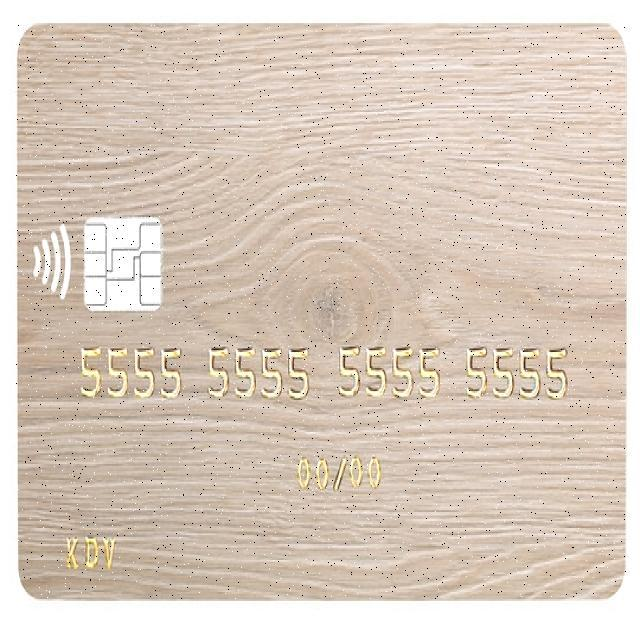payment_card: (16, 22, 628, 600)
